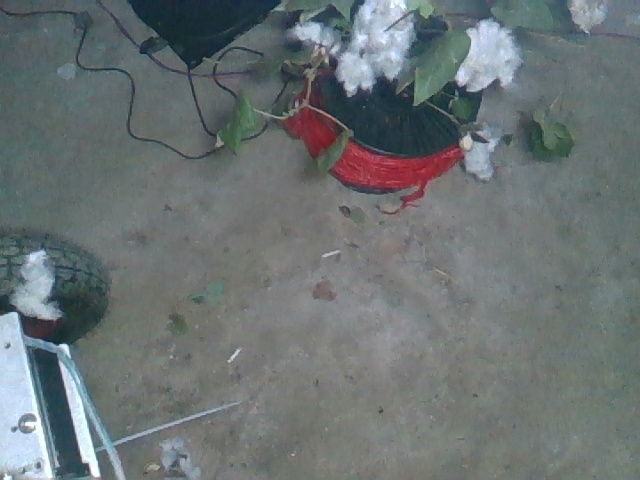cotton: (288, 1, 419, 100), (454, 16, 525, 94), (457, 121, 504, 186)
